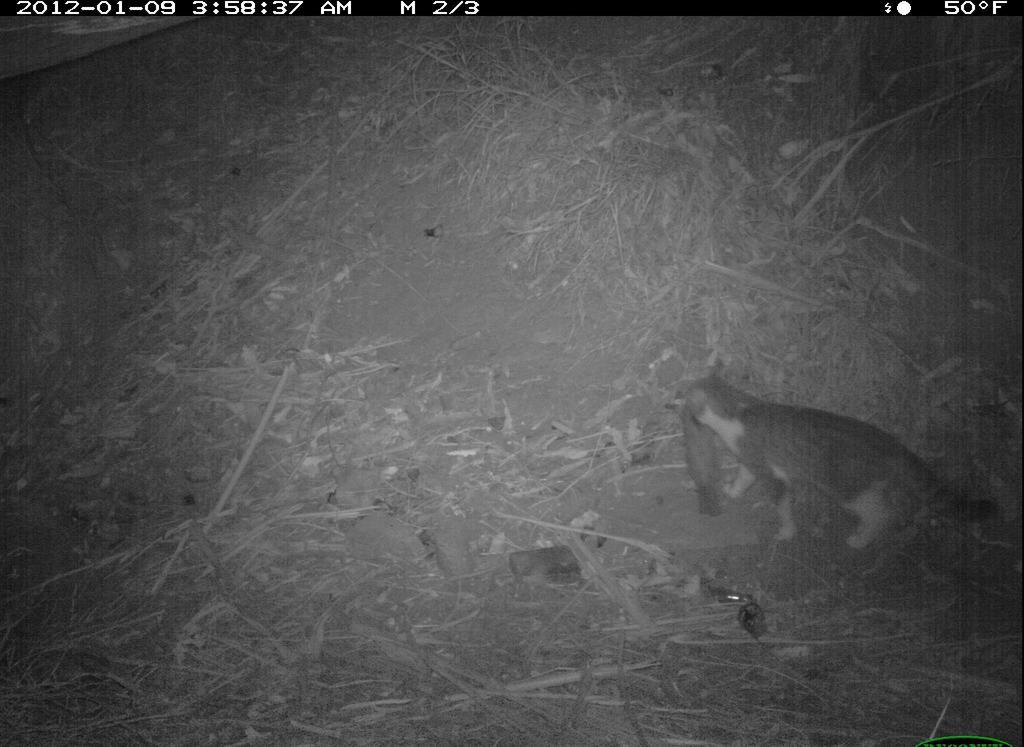cat: (646, 353, 1016, 587)
